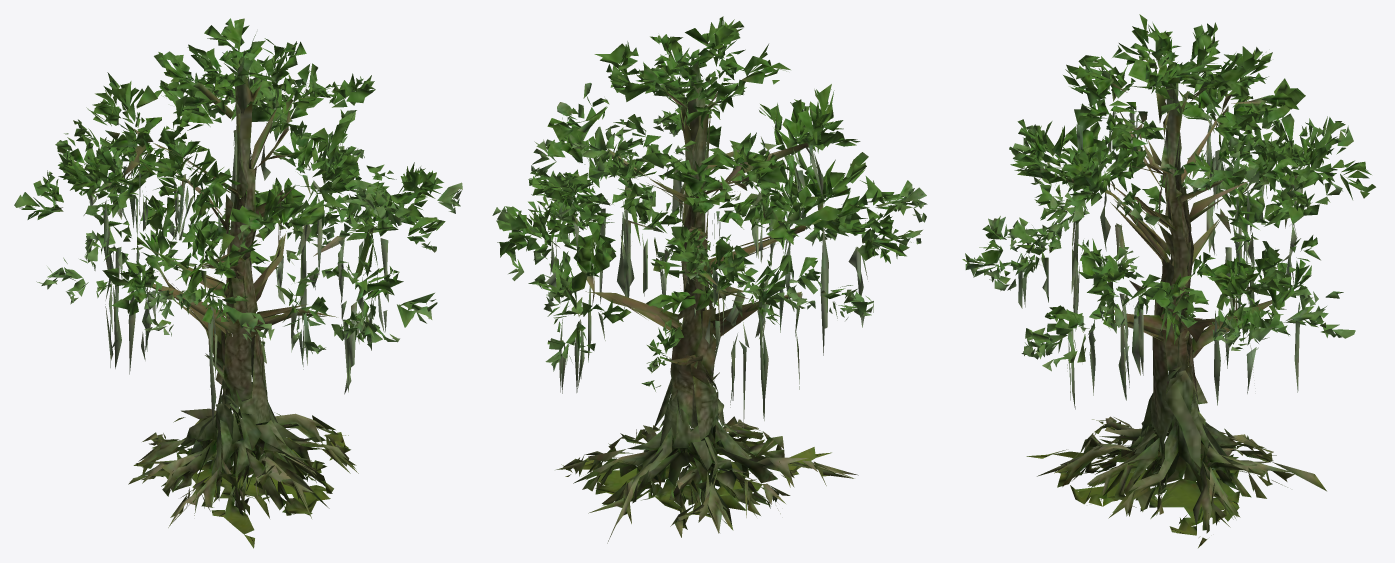
File: cipreste_raizes_adulta.glb
The picture shows the model from 3 angles, left to right: view 1: azimuth 30°, elevation 25°; view 2: azimuth 150°, elevation 25°; view 3: azimuth 270°, elevation 25°; orthographic projection. The views are drawn at different scales.
Parts seen in each view (by area): view 1: geometry_0; view 2: geometry_0; view 3: geometry_0.
Part boxes in pixels (x1,y1,x2,y2): geometry_0: (14, 18, 462, 548); geometry_0: (492, 16, 927, 543); geometry_0: (962, 14, 1375, 547).
Bounding box in the file's own units: 0.8779 × 1.01 × 0.8327.
Materials: 1 (1 with a texture image).
